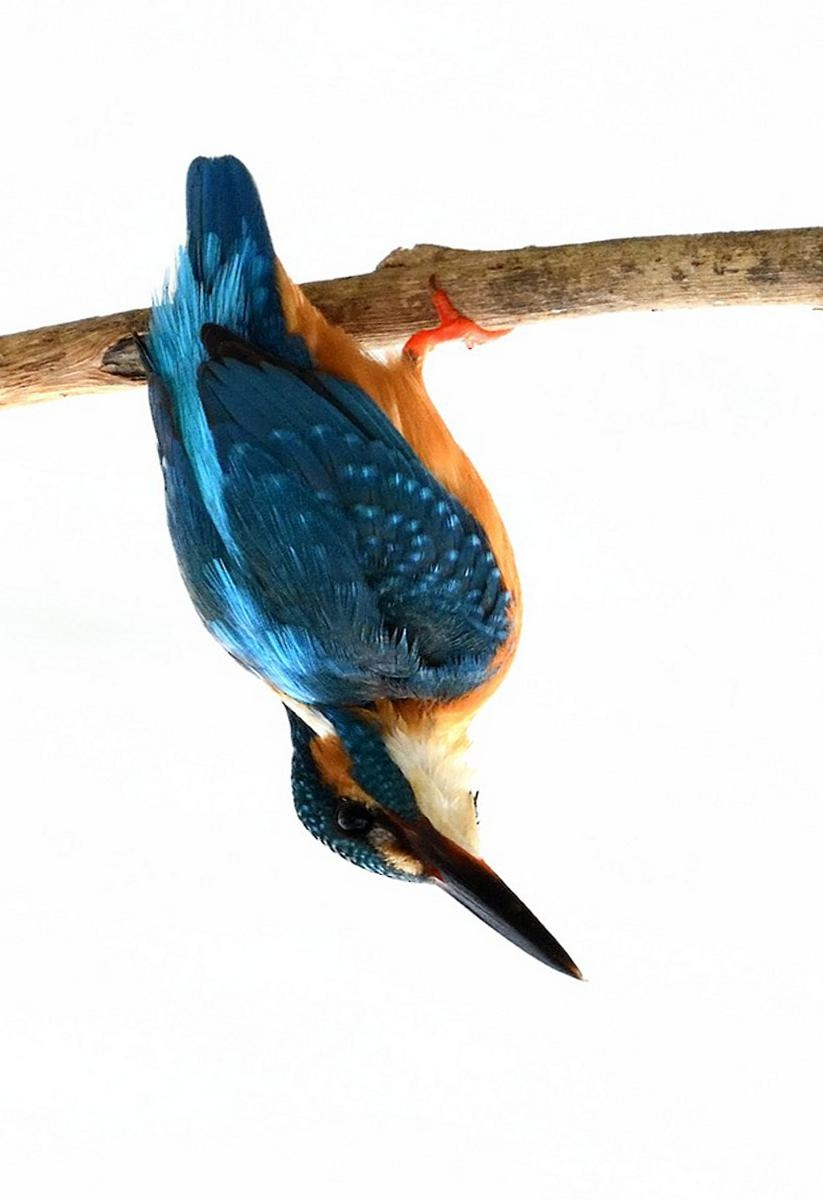kingfisher: (137, 96, 606, 1020)
